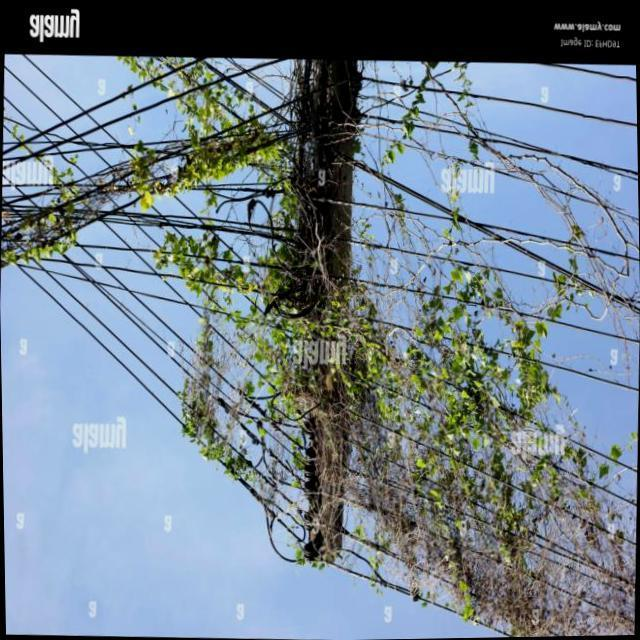critical vegetation: (180, 77, 514, 592)
